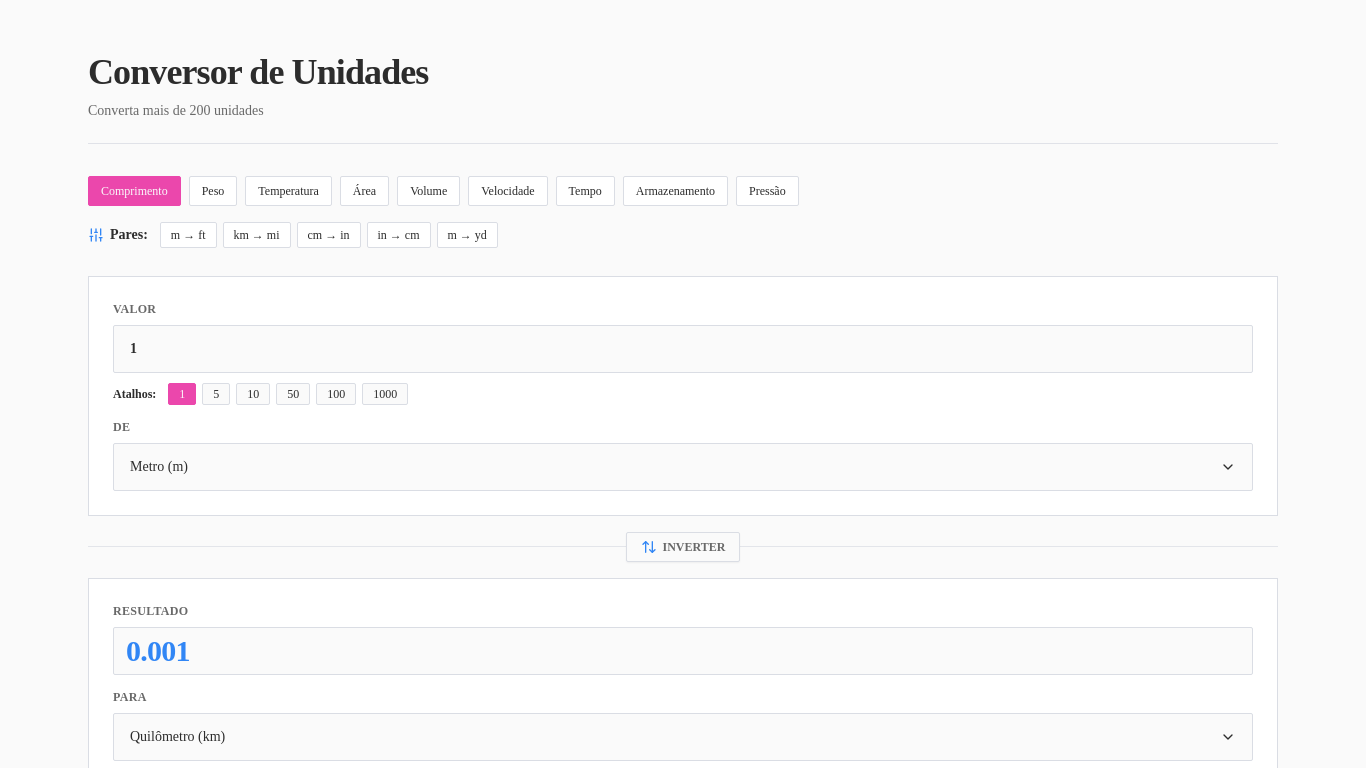
Test: UnitConverterClient › switches category and updates unit choices
Click the tab "Peso" at x=213, y=191, box [189,176,237,206]
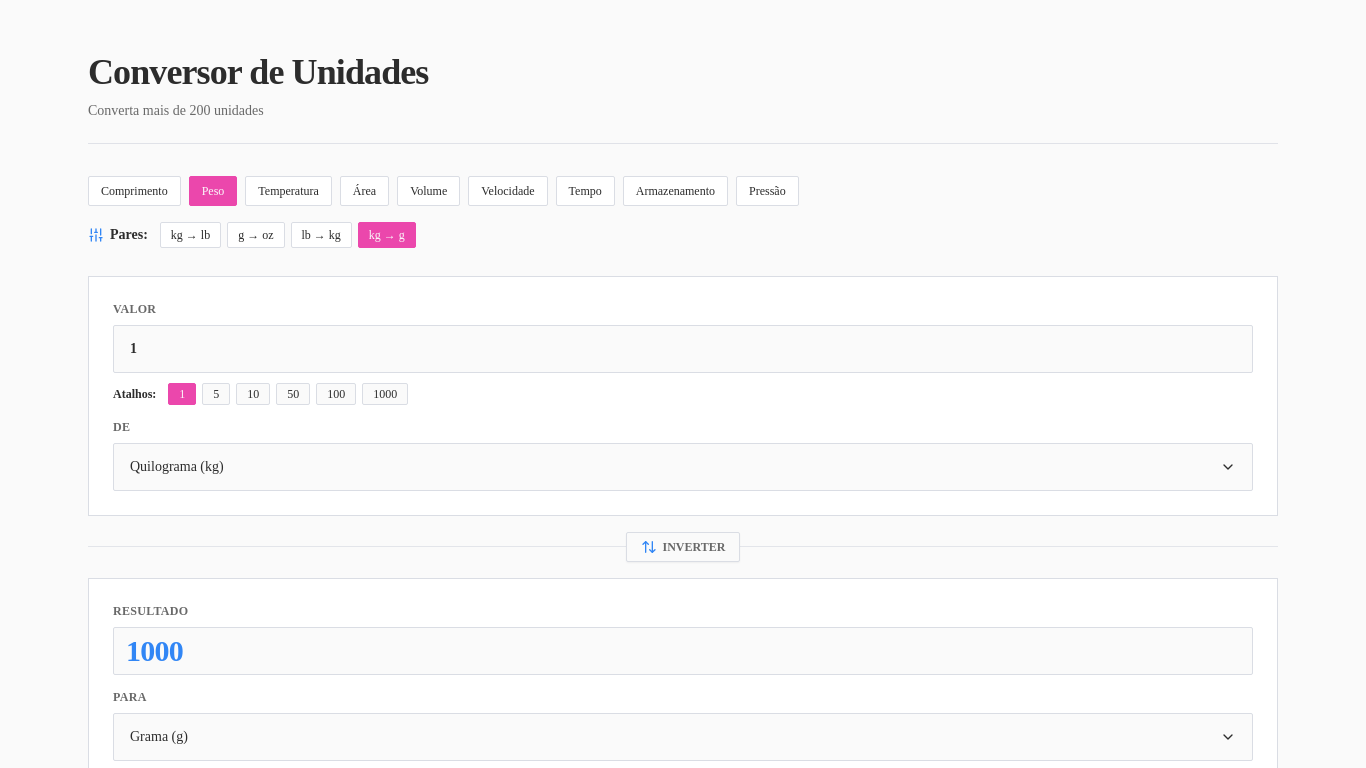
Now the dropdown named "De" shows "Quilograma", box [113,443,1253,491]
